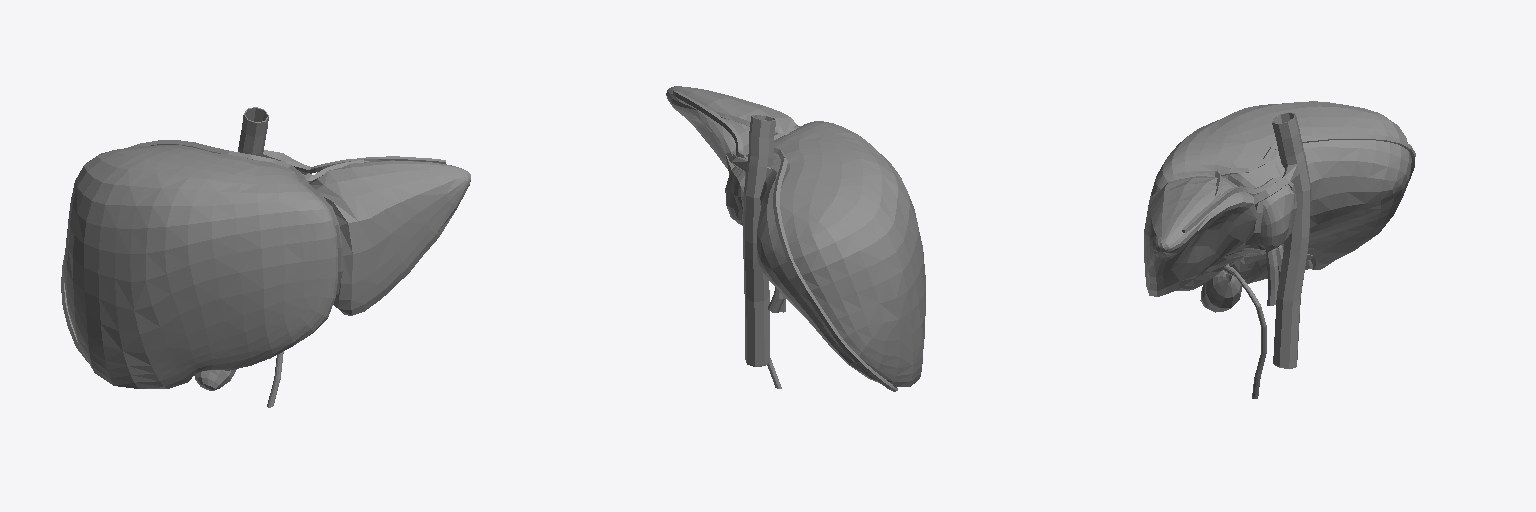
Rendered from Liver.obj.
3 renders of one model, left to right at view 1: azimuth 30°, elevation 25°; view 2: azimuth 150°, elevation 25°; view 3: azimuth 270°, elevation 25°, orthographic.
Visible parts, largest first — view 1: Right_Lobe, Left_Lobe, Ligaments, Inferior_vena_cava, Gall_bladder; view 2: Right_Lobe, Inferior_vena_cava, Left_Lobe, Ligaments; view 3: Right_Lobe, Left_Lobe, Inferior_vena_cava, Ligaments, Gall_bladder, Hepatic_portal_vein.
Part boxes in pixels (left/top/right/bottom): Right_Lobe: left=64, top=145, right=337, bottom=388; Left_Lobe: left=310, top=160, right=470, bottom=315; Ligaments: left=61, top=140, right=445, bottom=361; Inferior_vena_cava: left=238, top=107, right=312, bottom=358; Gall_bladder: left=194, top=351, right=283, bottom=407; Right_Lobe: left=725, top=121, right=925, bottom=387; Inferior_vena_cava: left=729, top=115, right=775, bottom=366; Left_Lobe: left=666, top=86, right=799, bottom=174; Ligaments: left=673, top=91, right=897, bottom=391; Right_Lobe: left=1150, top=101, right=1411, bottom=290; Left_Lobe: left=1144, top=176, right=1257, bottom=296; Inferior_vena_cava: left=1254, top=112, right=1310, bottom=368; Ligaments: left=1171, top=134, right=1415, bottom=269; Gall_bladder: left=1200, top=264, right=1266, bottom=398; Hepatic_portal_vein: left=1266, top=248, right=1278, bottom=305.
Size of the model in its own units: 91.15 by 78.62 by 68.2.